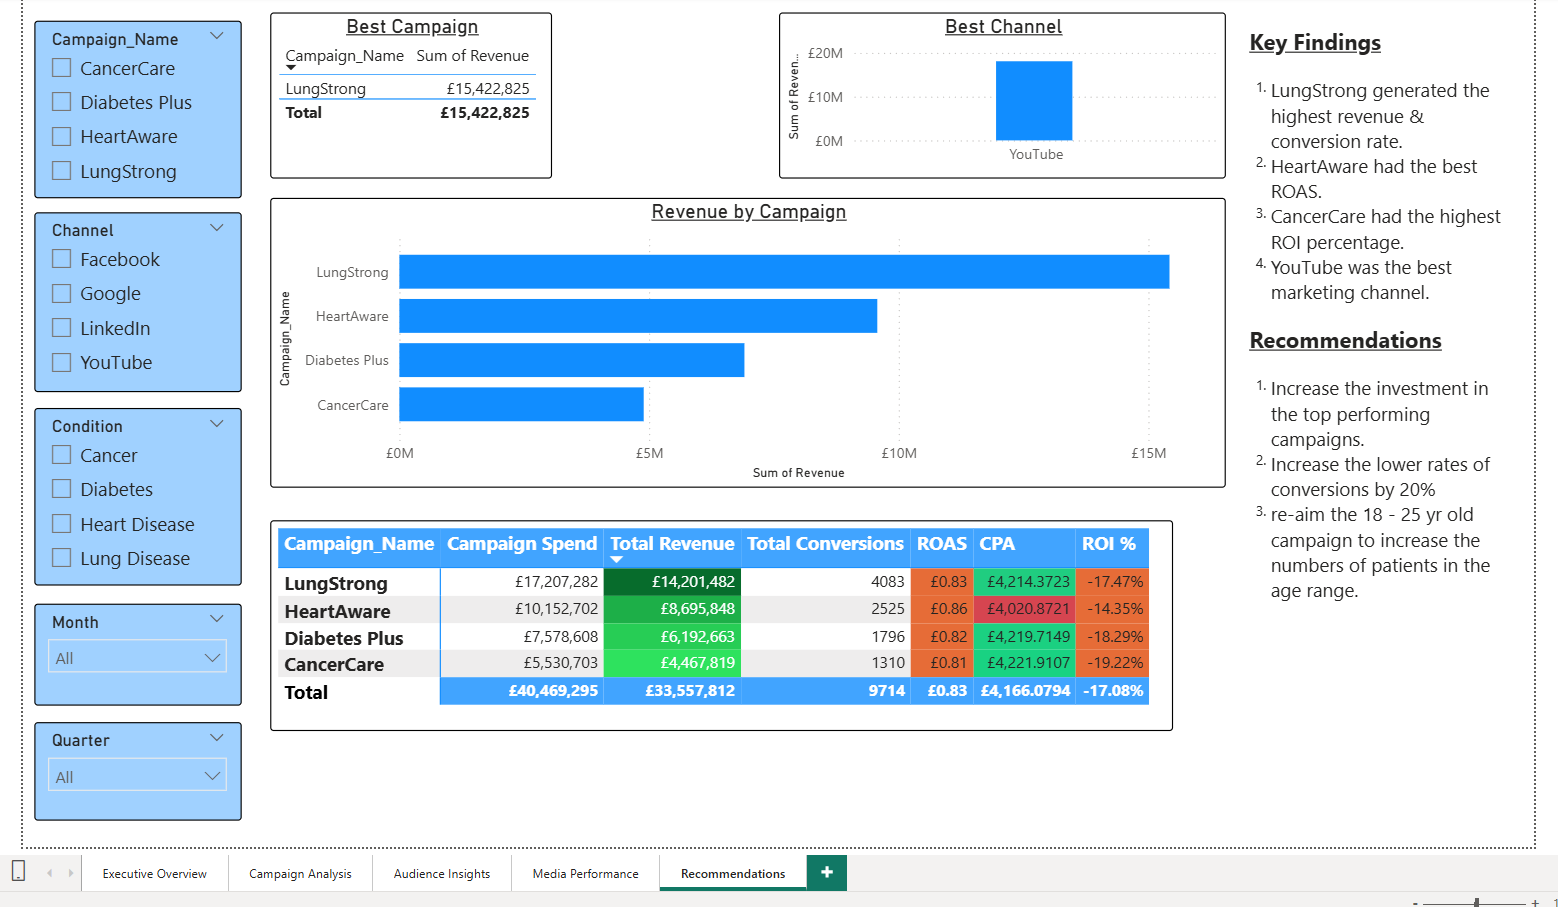

What the dashboard file says about the page in this screenshot:
{"tool":"powerbi","page":{"name":"Recommendations","canvas":[1280,720],"ordinal":4},"visuals":[{"type":"slicer","fields":{"Values":["Dashboard_Data(in).Campaign_Name"]},"box":[9.9,19.7,175.5,150.5],"z":0},{"type":"slicer","fields":{"Values":["Dashboard_Data(in).Channel"]},"box":[9.9,182.7,175.5,152.3],"z":1},{"type":"slicer","fields":{"Values":["Dashboard_Data(in).Condition"]},"box":[9.9,348.4,175.5,150.5],"z":2},{"type":"slicer","fields":{"Values":["DateTable.Month"]},"box":[9.9,514.1,175.5,86],"z":3},{"type":"slicer","fields":{"Values":["DateTable.Quarter"]},"box":[9.9,614.4,175.5,83.3],"z":4},{"type":"pivotTable","fields":{"Rows":["clean_campaign.Campaign_Name"],"Values":["Measure.Campaign Spend","Measure.Total Revenue","Measure.Total Conversions","Measure.ROAS","Measure.CPA","Measure.ROI %"]},"box":[209.6,443.3,764.9,178.2],"z":5},{"type":"tableEx","title":"Best Campaign","fields":{"Values":["Dashboard_Data(in).Campaign_Name","Sum(Dashboard_Data(in).Revenue)"]},"box":[209.6,13.4,239.1,140.6],"z":6},{"type":"clusteredColumnChart","title":"Best Channel","fields":{"Category":["Dashboard_Data(in).Channel"],"Y":["Sum(Dashboard_Data(in).Revenue)"]},"box":[640.4,13.4,378.8,140.6],"z":7},{"type":"clusteredBarChart","title":"Revenue by Campaign","fields":{"Category":["Dashboard_Data(in).Campaign_Name"],"Y":["Sum(Dashboard_Data(in).Revenue)"]},"box":[209.6,170.2,809.6,245.4],"z":8},{"type":"textbox","box":[1034.2,20.1,233.9,530.6],"z":9}]}

Visuals, with their boxes in screenshot pixels (x1, y1, x2, y2):
slicer - Dashboard_Data(in).Campaign_Name: 24:11:235:192
slicer - Dashboard_Data(in).Channel: 24:207:235:390
slicer - Dashboard_Data(in).Condition: 24:406:235:587
slicer - DateTable.Month: 24:605:235:708
slicer - DateTable.Quarter: 24:725:235:825
pivotTable - clean_campaign.Campaign_Name x Measure.Campaign Spend: 264:520:1182:734
"Best Campaign" tableEx: 264:4:551:173
"Best Channel" clusteredColumnChart: 781:4:1236:173
"Revenue by Campaign" clusteredBarChart: 264:192:1236:487
textbox: 1254:12:1534:649
